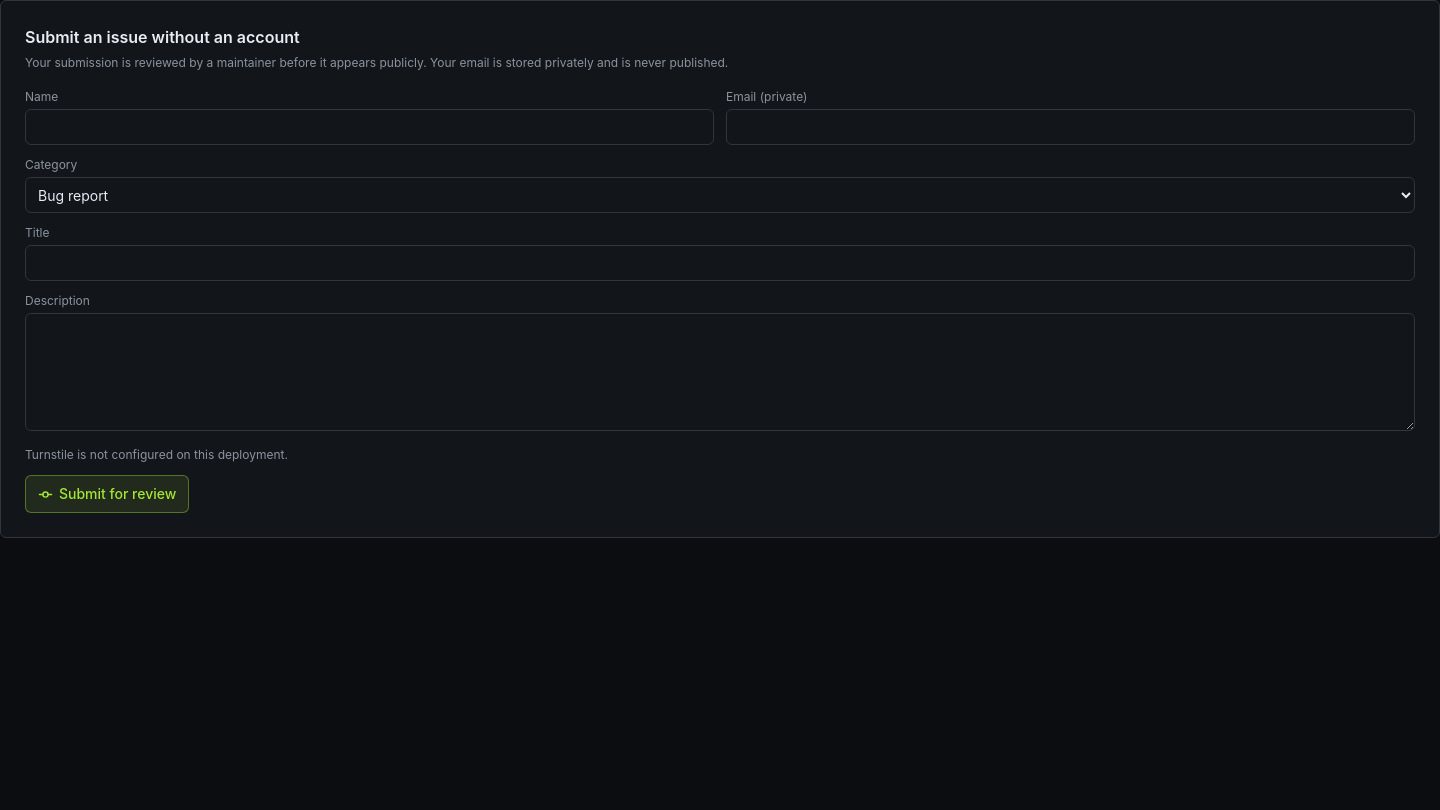
Test: GuestIssueForm › surfaces submission failures
Expected: the button "Submit for review" is shown, [25,475,189,513]
Type "Ada" into the field labelled "Name" at [370, 127], box [25,109,714,145]
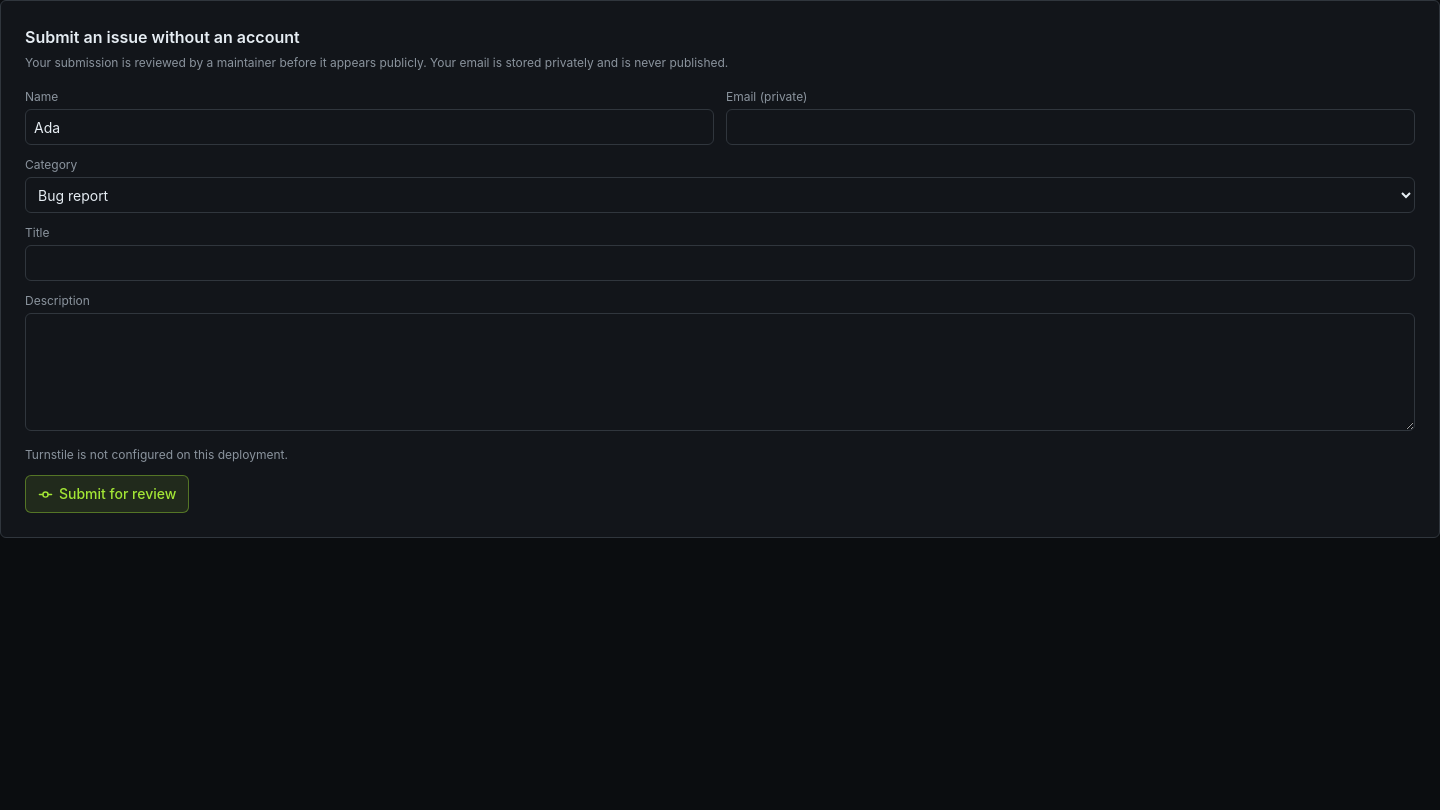
Type "ada@example.test" into the field labelled "Email (private)" at [1070, 127], box [726,109,1415,145]
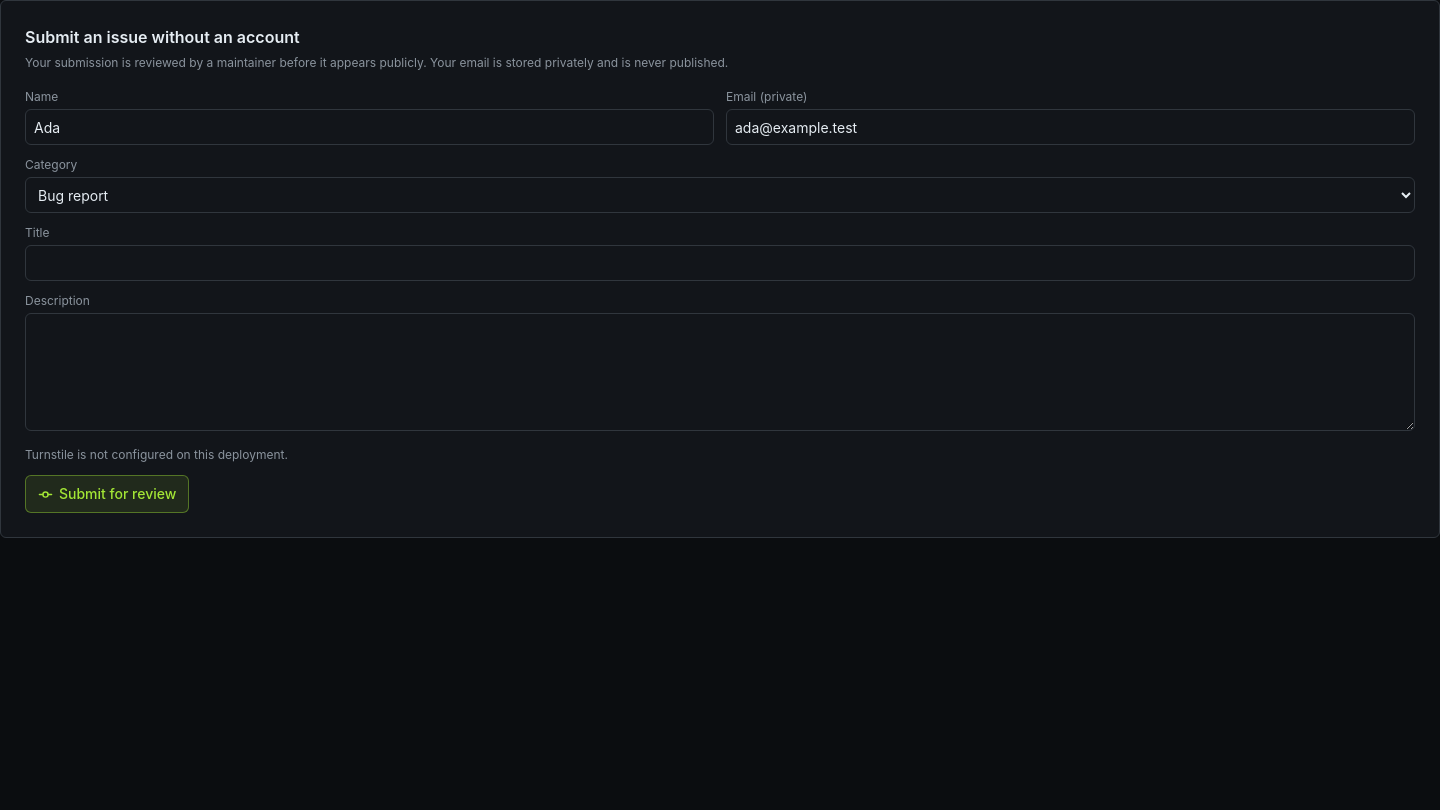
Type "Broken" into the field labelled "Title" at [720, 263], box [25,245,1415,281]
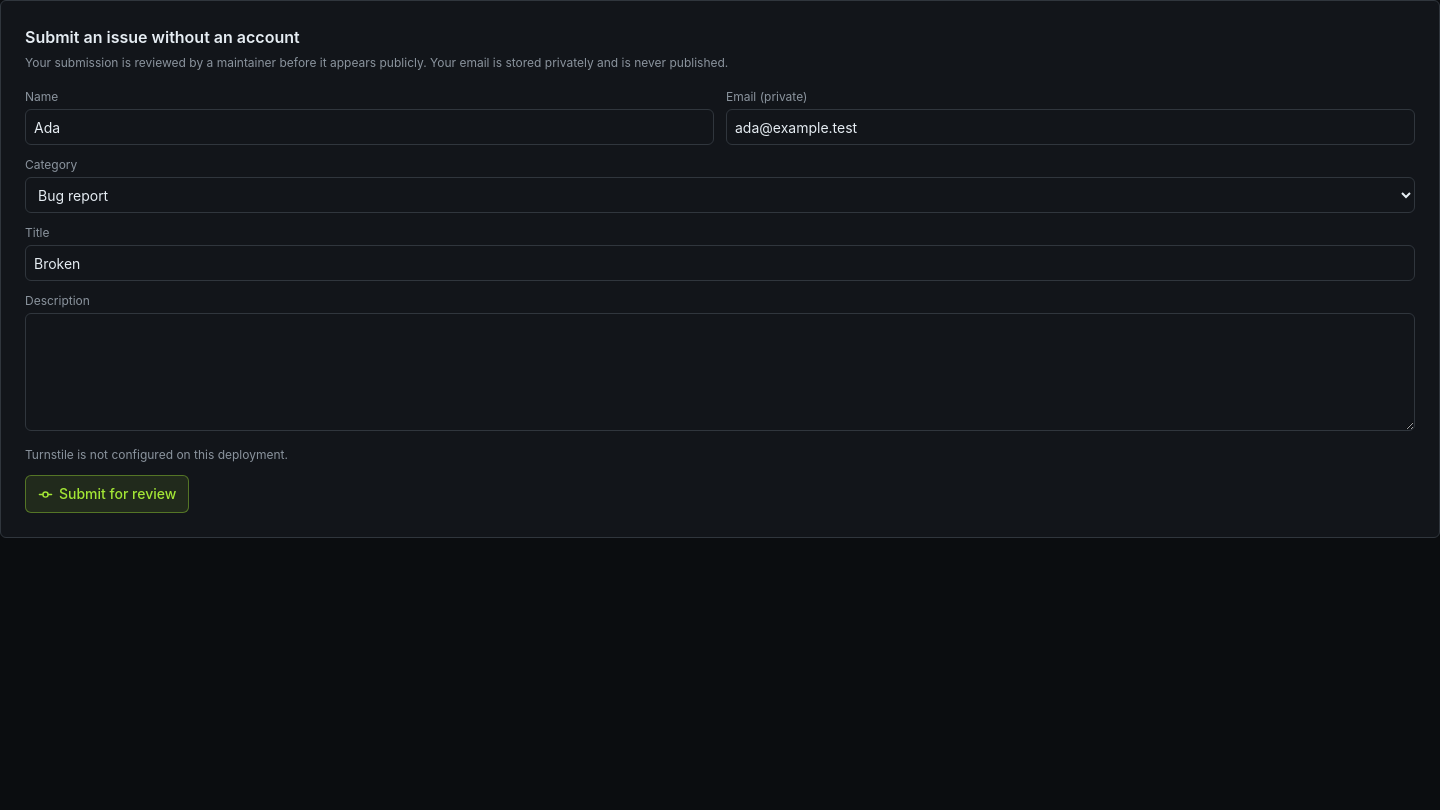
Type "Details" into the text box labelled "Description" at [720, 372], box [25,313,1415,431]
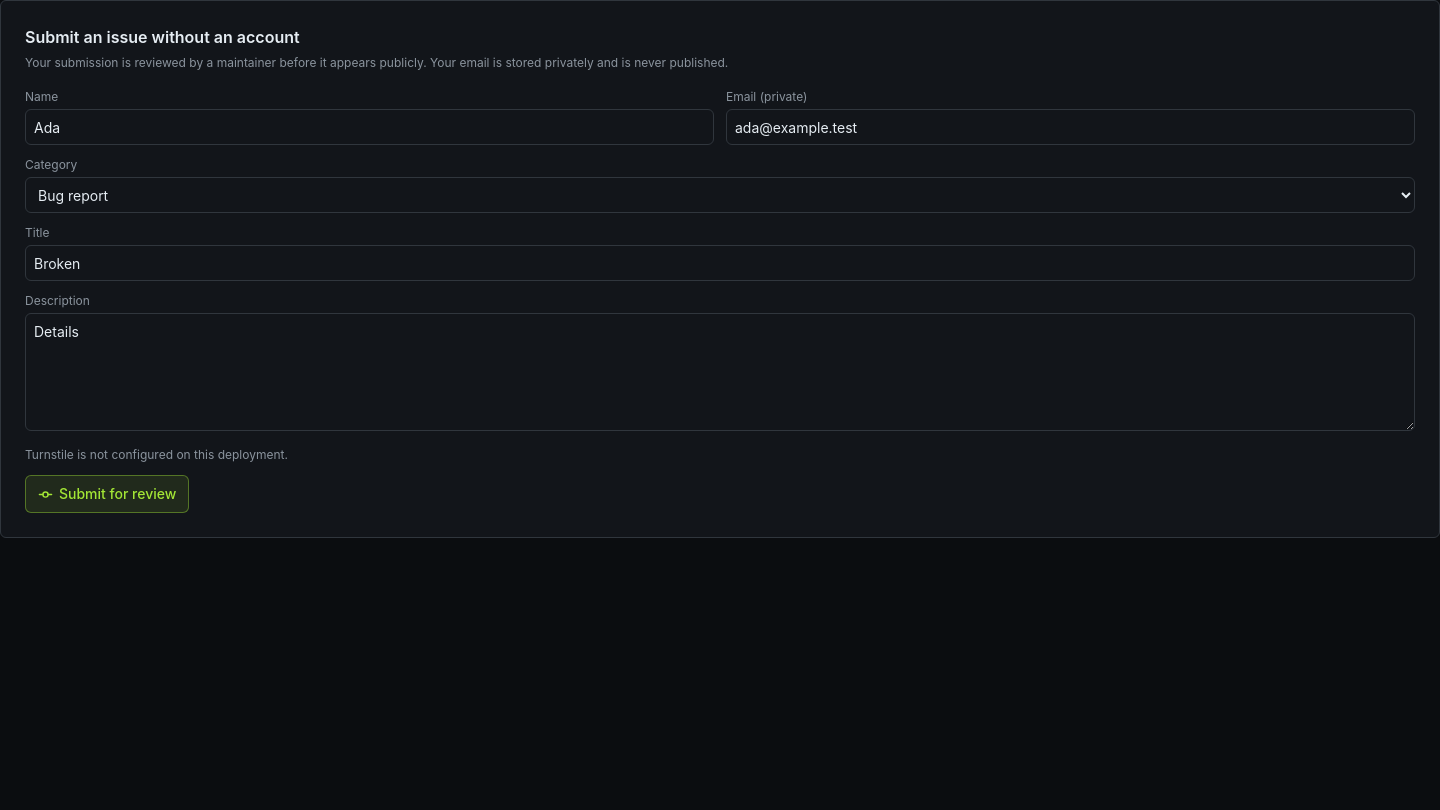
Click the button "Submit for review" at [107, 494], box [25,475,189,513]
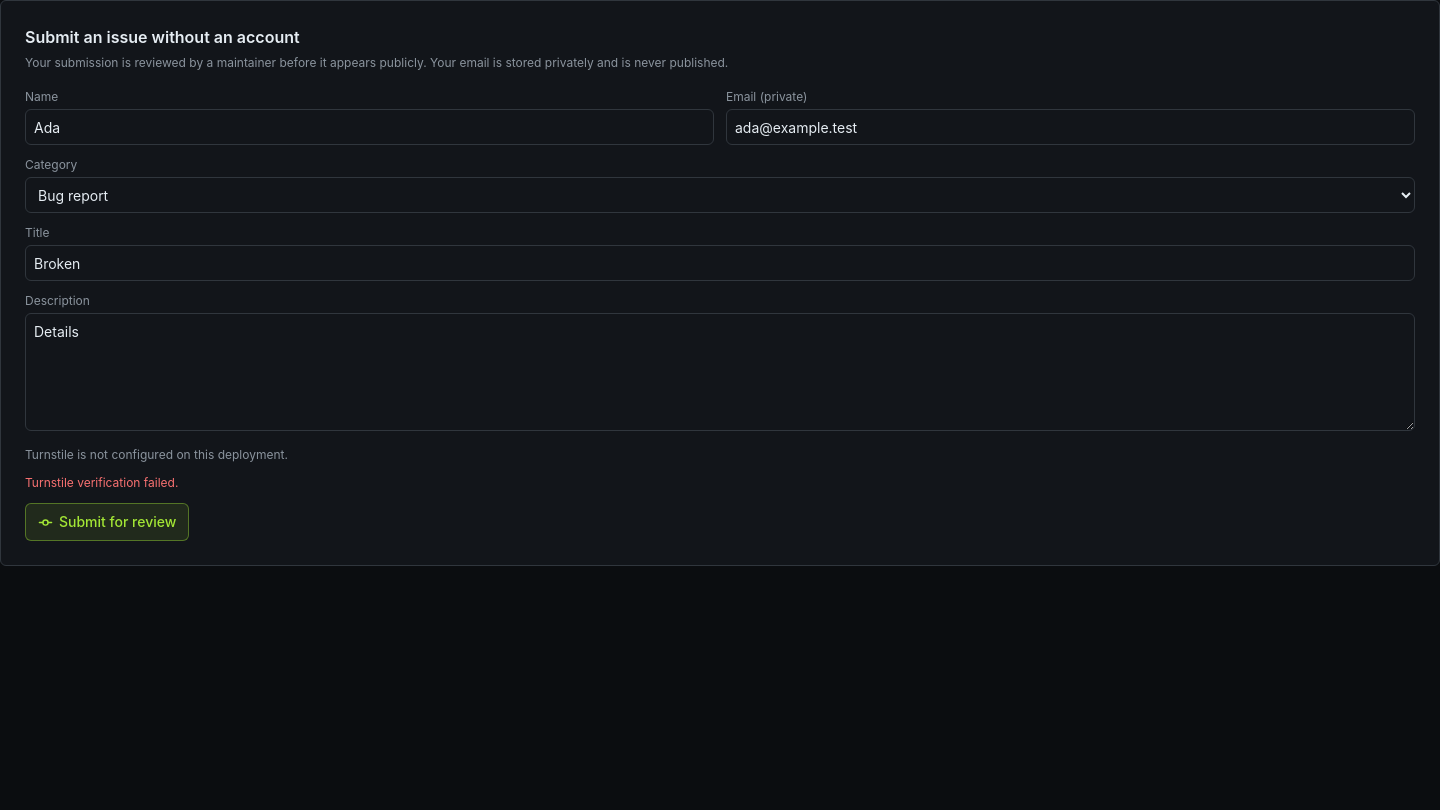
Expected: the message shows "Turnstile", [25,475,178,490]
